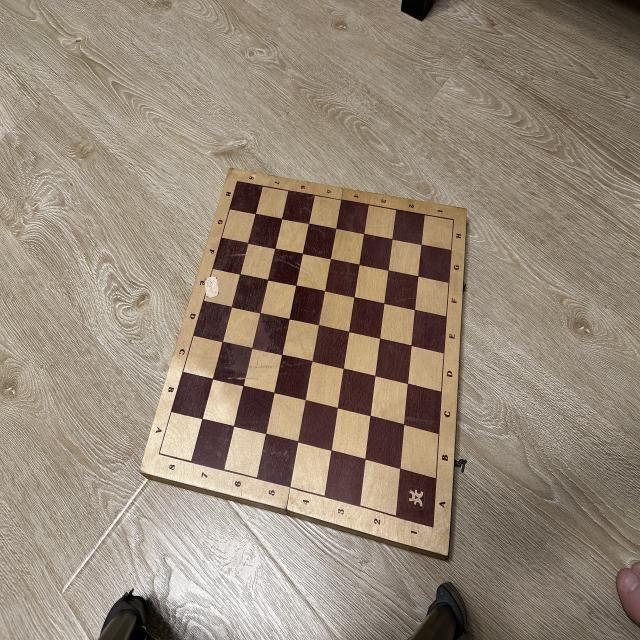chess-table-corners: (429, 523, 437, 531), (156, 450, 162, 458), (451, 216, 455, 223), (236, 178, 240, 184)
